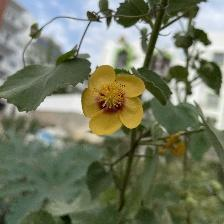indian mallow: (80, 64, 147, 142)
